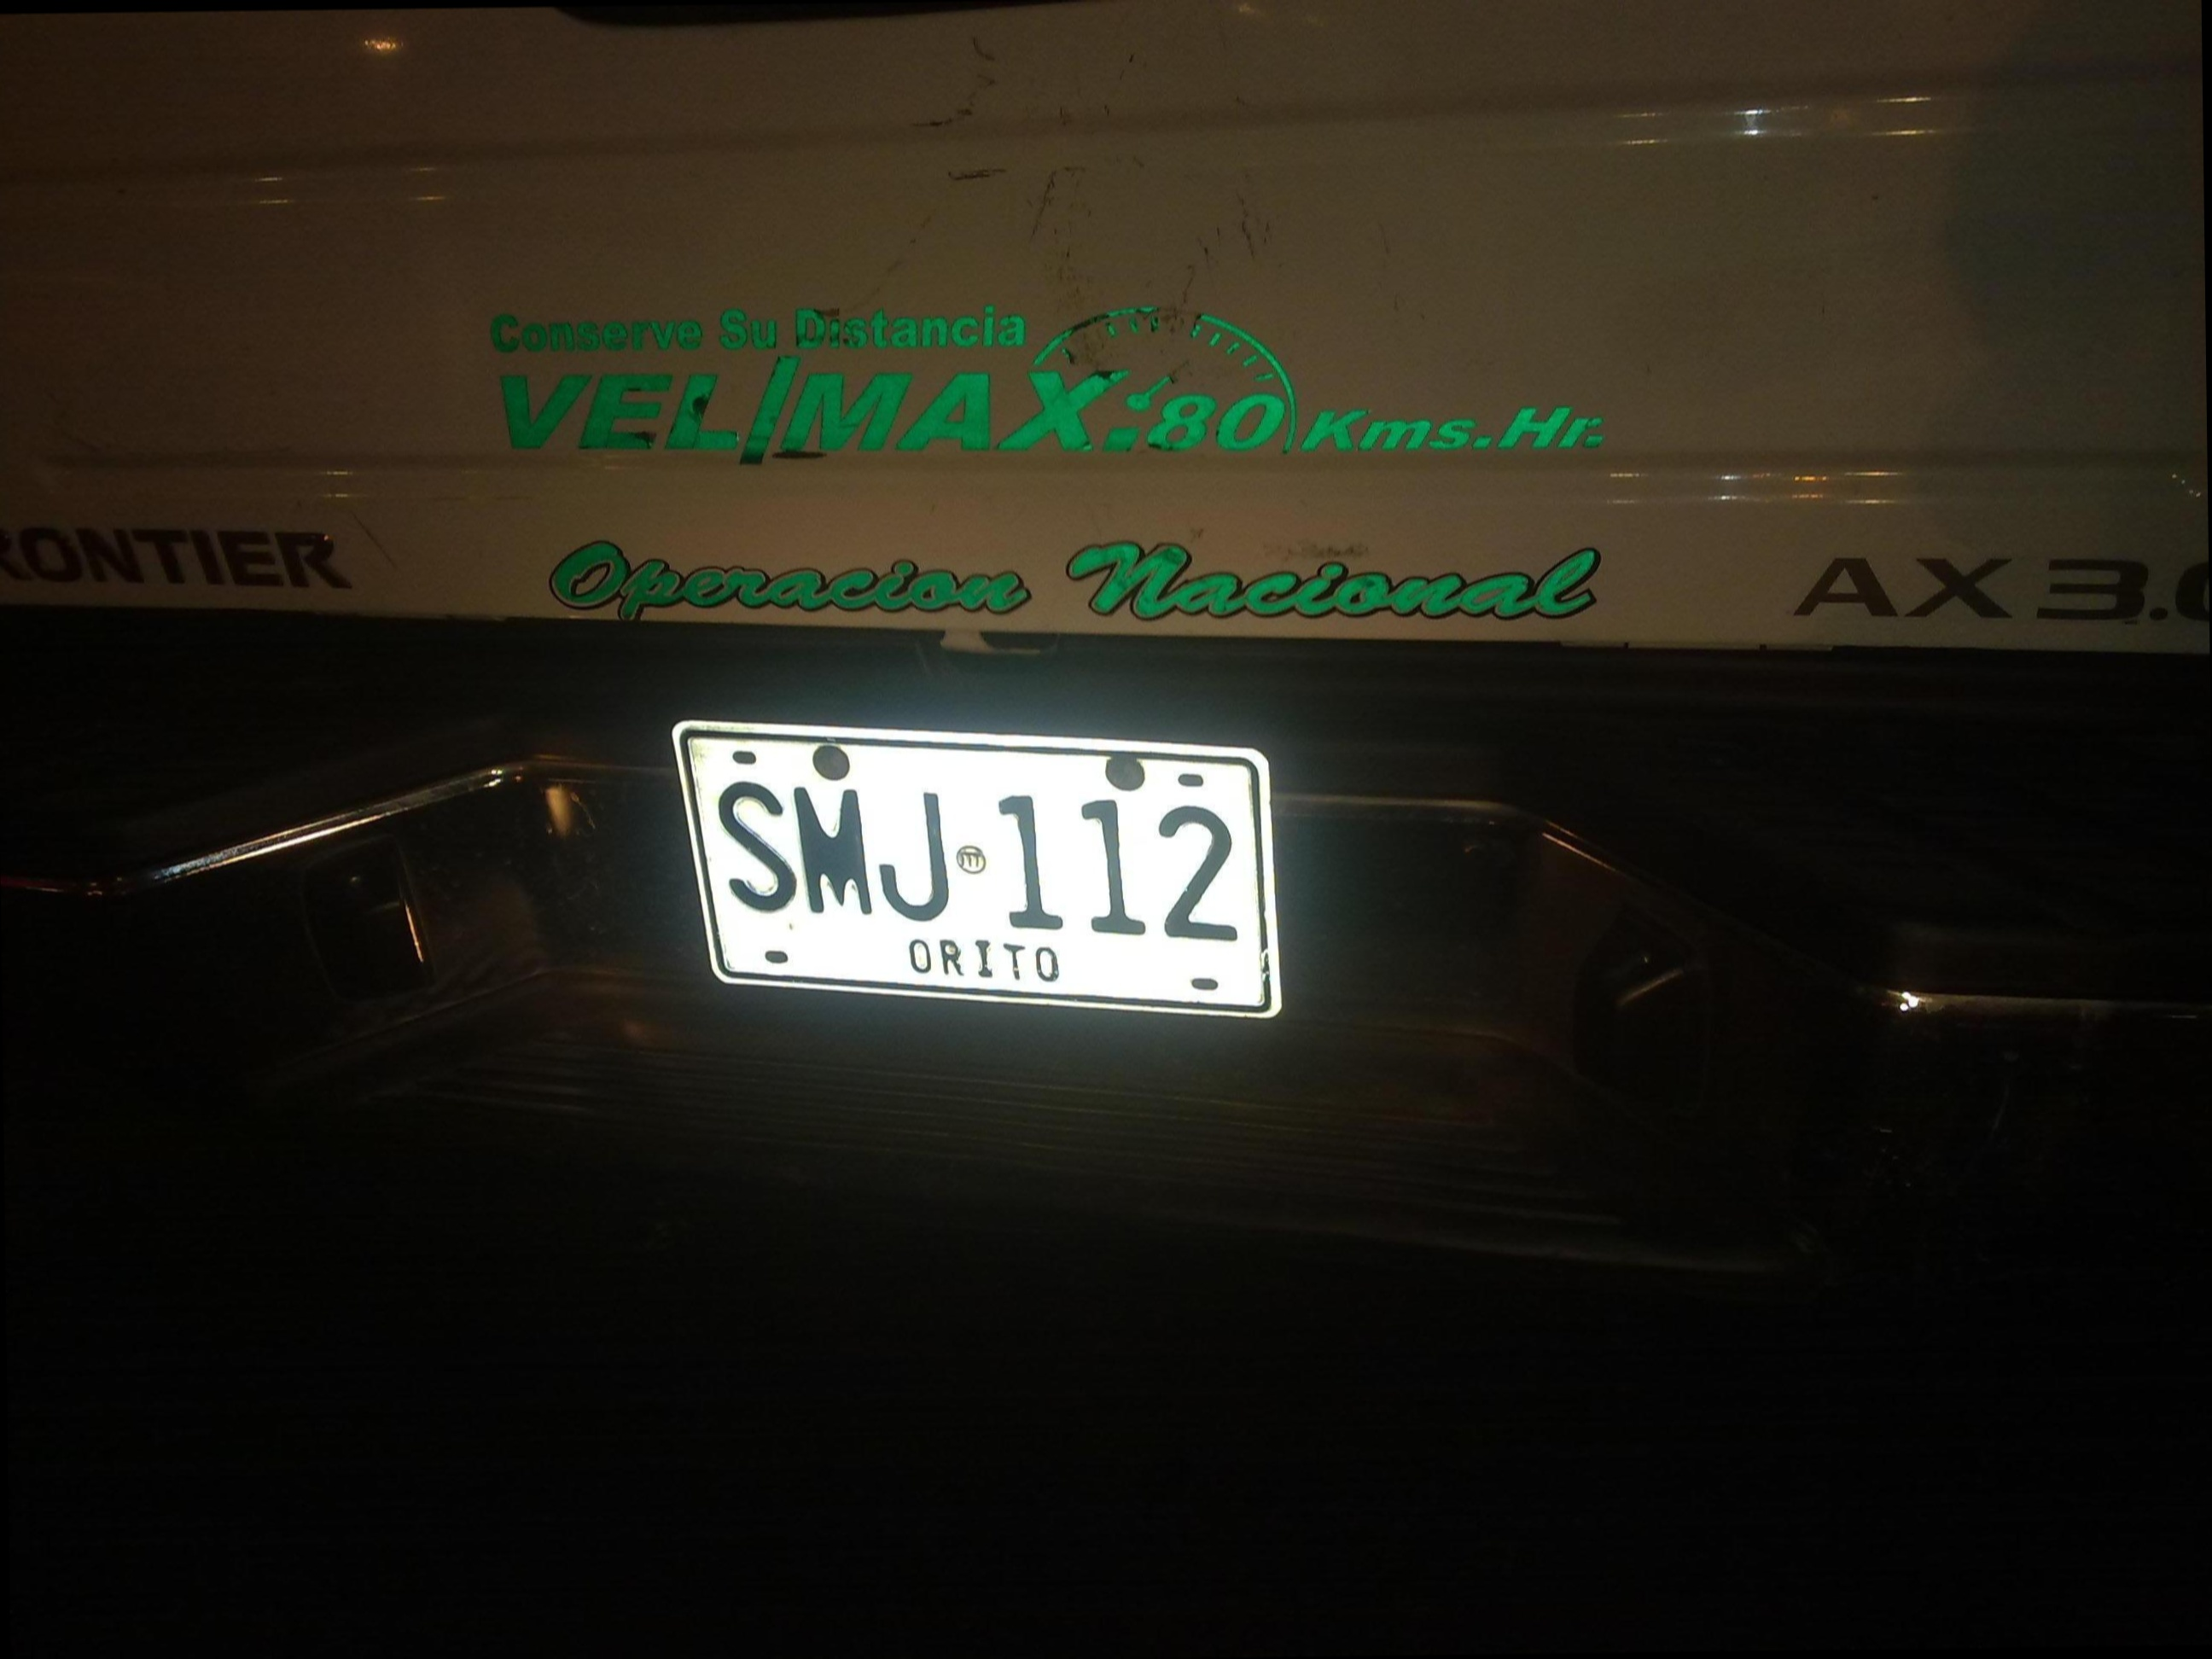placas: (670, 705, 1286, 1033)
